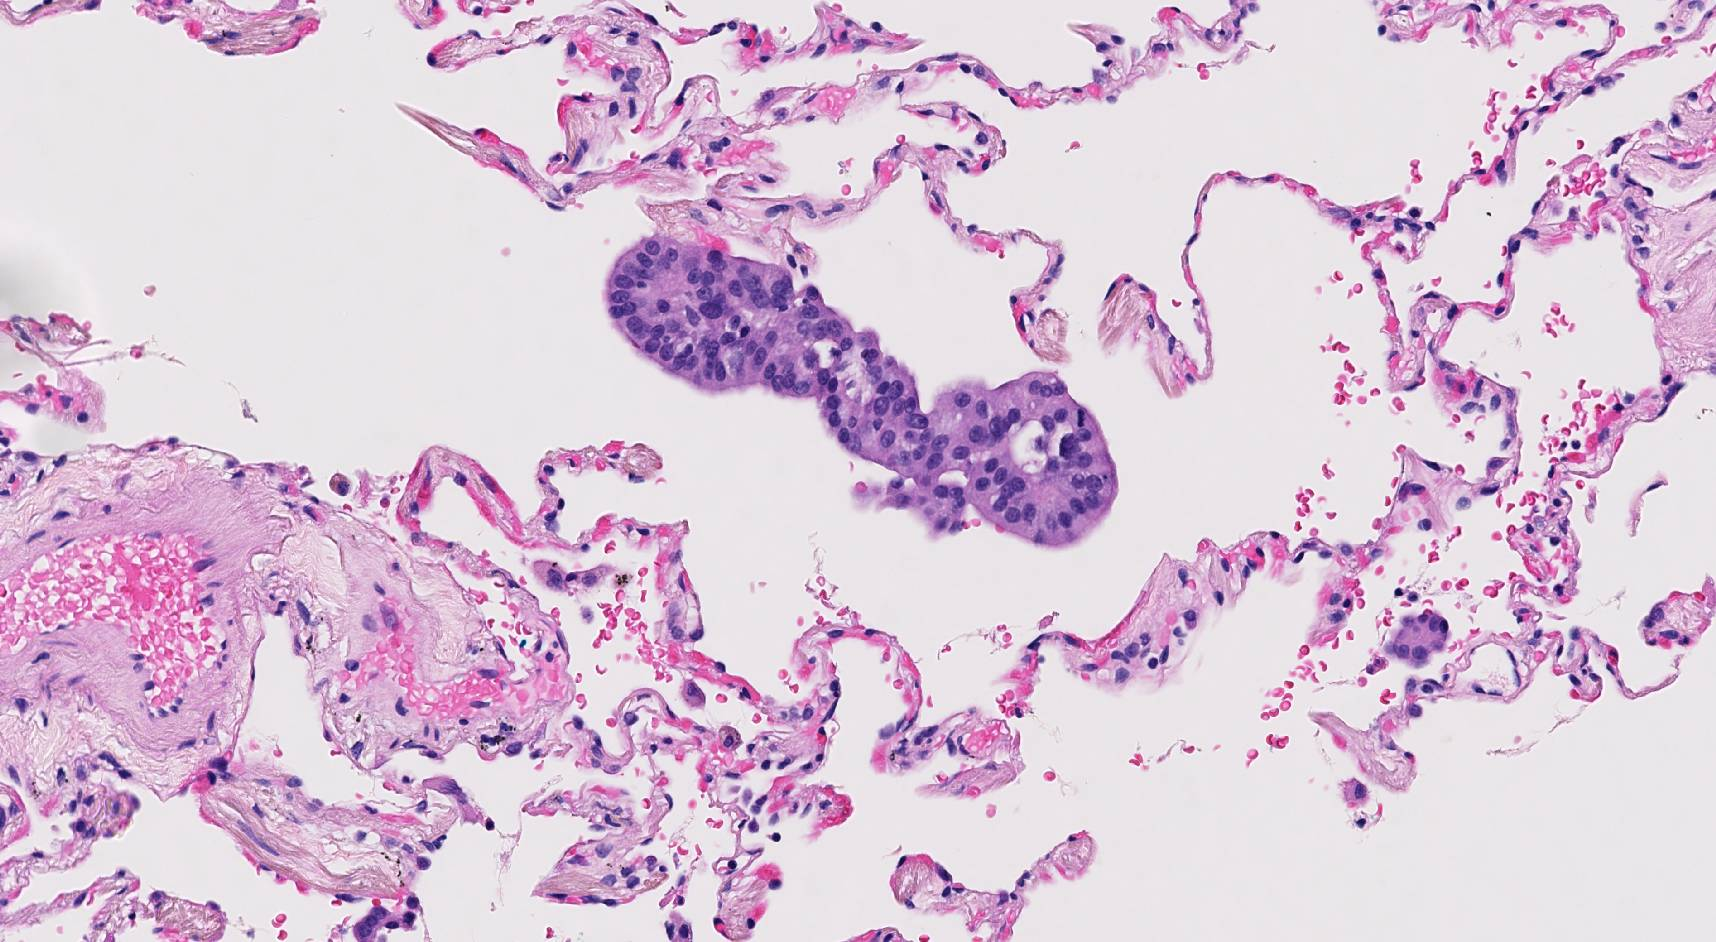stas: (598, 232, 1119, 550), (1391, 610, 1454, 669)
